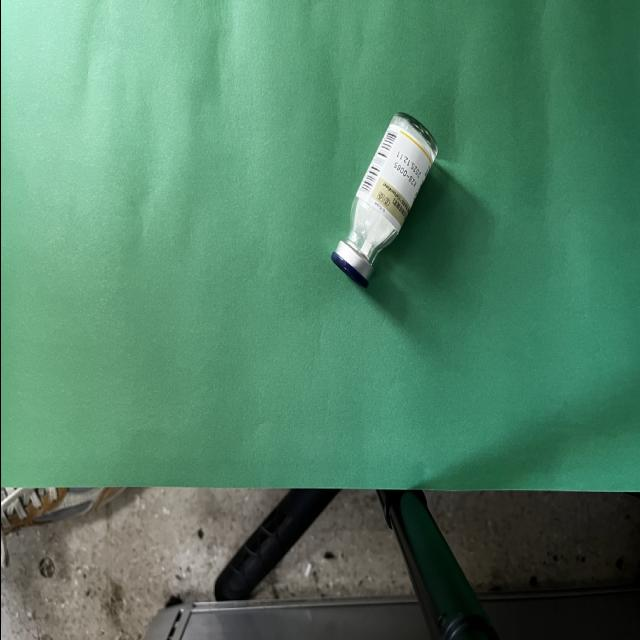Vials: (330, 112, 438, 288)
